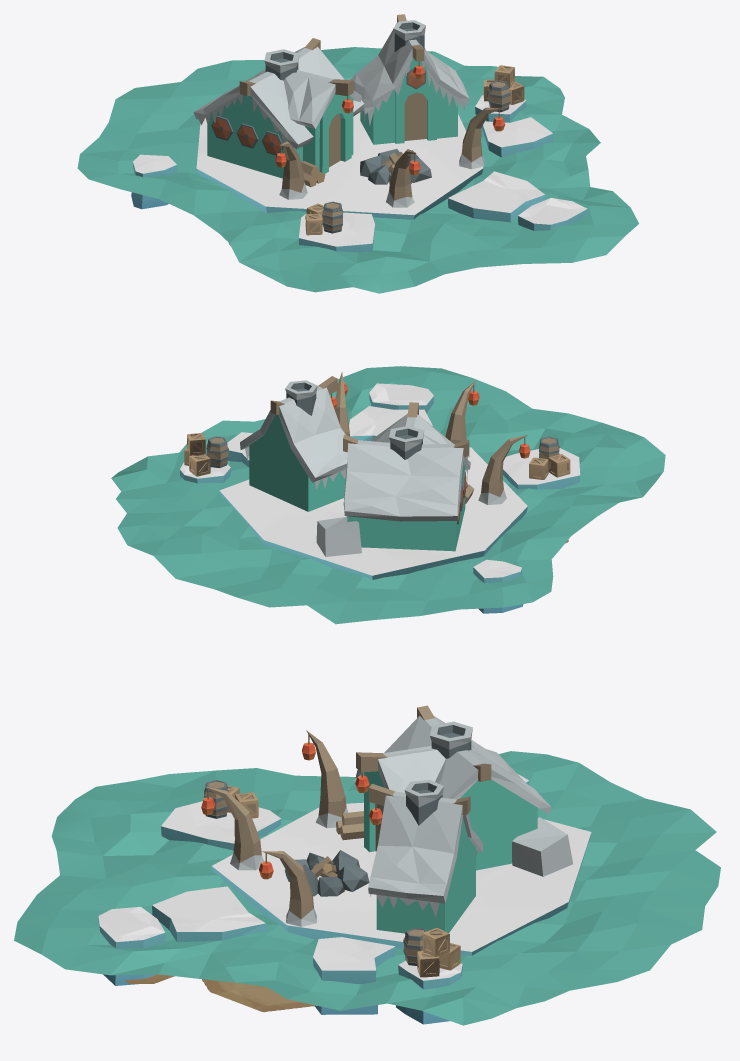
File: townFrozenSea01.fbx
3 views of the same model, one above another, from view 1: azimuth 30°, elevation 25°; view 2: azimuth 150°, elevation 25°; view 3: azimuth 270°, elevation 25° (orthographic). The views are drawn at different scales.
Visible parts, largest first — view 1: townFrozenSea01, townArcticWater01; view 2: townFrozenSea01, townArcticWater01; view 3: townArcticWater01, townFrozenSea01, groundDecal.
Part boxes in pixels (bbox=[...]): townFrozenSea01: bbox=[131, 14, 587, 252]; townArcticWater01: bbox=[77, 47, 638, 293]; townFrozenSea01: bbox=[180, 371, 580, 613]; townArcticWater01: bbox=[111, 366, 665, 624]; townArcticWater01: bbox=[14, 751, 720, 1025]; townFrozenSea01: bbox=[98, 705, 591, 1024]; groundDecal: bbox=[124, 974, 316, 1012].
Size of the model in its own units: 6.65 by 1.96 by 7.46.
